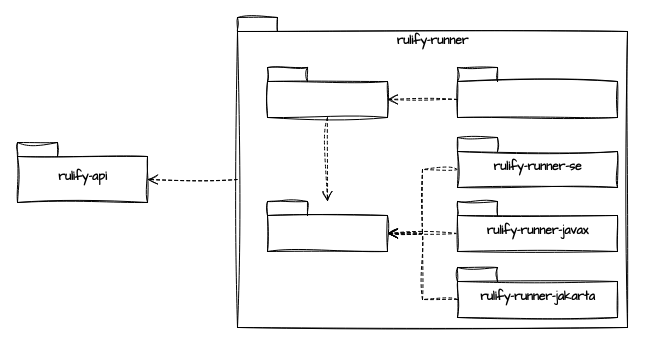
This 645x345 diagram has some shape labels left out. The box of each missing label's shape, as (x1, y1, x2, y2) in pixels:
rulify-runner-api: (266, 66, 388, 118)
rulify-runner-impl: (266, 200, 388, 252)
rulify-spring-boot-starter: (456, 66, 618, 118)
